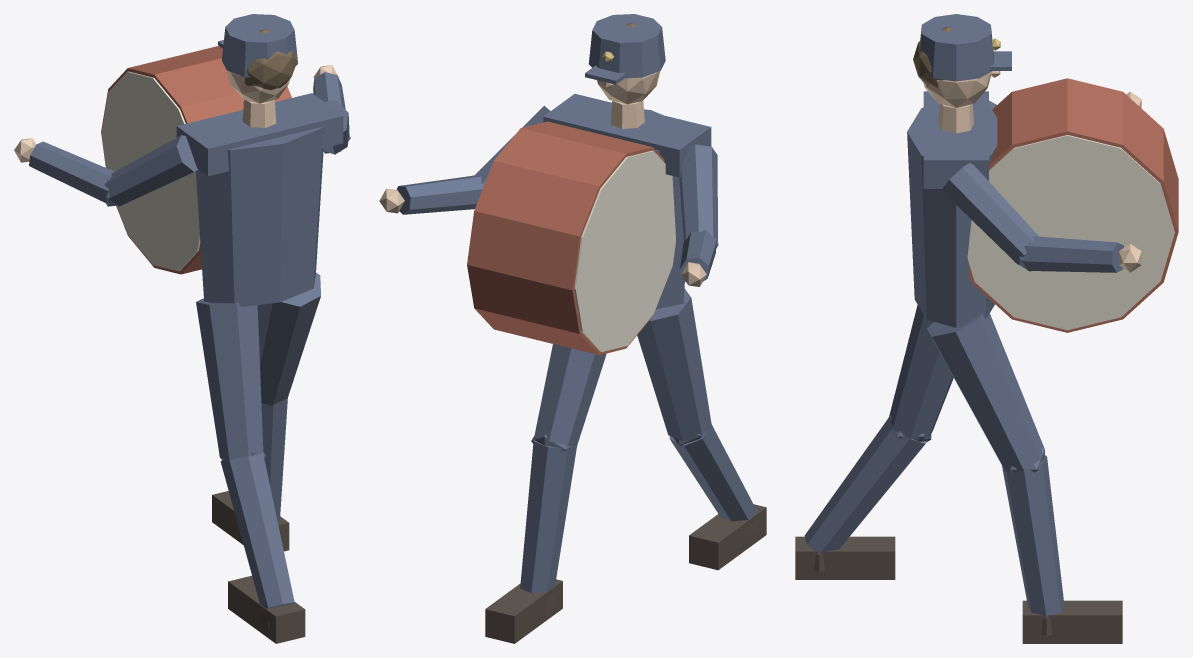
Rendered from bandsman_bass_drum.glb.
The picture shows the model from 3 angles, left to right: view 1: azimuth 30°, elevation 25°; view 2: azimuth 150°, elevation 25°; view 3: azimuth 270°, elevation 25°; orthographic projection. The views are drawn at different scales.
Parts seen in each view (by area): view 1: wool_navy, drum_skin, drum_shell, boot, skin, hair; view 2: wool_navy, drum_shell, drum_skin, boot, skin; view 3: wool_navy, drum_skin, drum_shell, boot, skin, hair.
Part boxes in pixels (box(x1,y1,x2,y2)): wool_navy: box(29, 14, 350, 608); drum_skin: box(101, 71, 200, 271); drum_shell: box(101, 46, 291, 274); boot: box(212, 491, 305, 643); skin: box(14, 65, 338, 162); hair: box(241, 29, 297, 90); wool_navy: box(396, 14, 756, 592); drum_shell: box(467, 121, 664, 355); drum_skin: box(574, 150, 675, 351); boot: box(485, 504, 766, 643); skin: box(379, 71, 706, 286); wool_navy: box(804, 14, 1123, 617); drum_skin: box(967, 135, 1174, 330); drum_shell: box(968, 78, 1178, 332); boot: box(795, 536, 1122, 643); skin: box(923, 71, 1141, 272); hair: box(913, 26, 951, 87).
Size of the model in its own units: 1.03 by 1.74 by 1.03.
